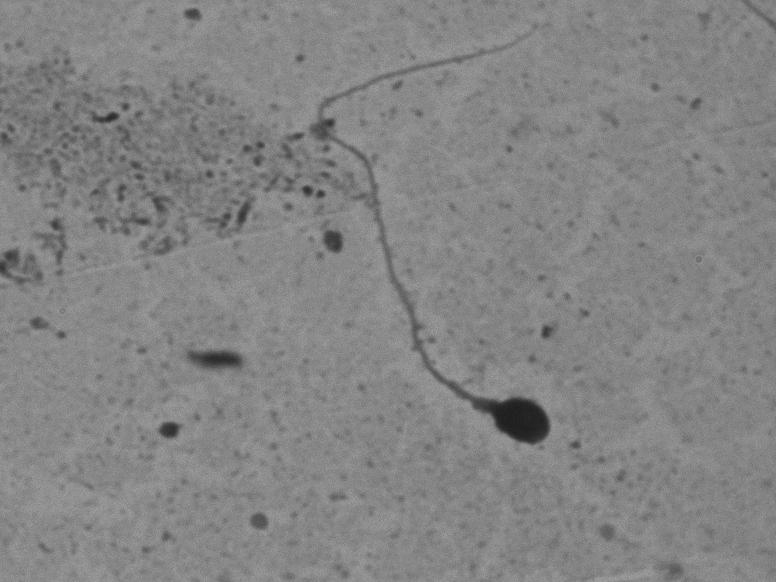Abnormal: (306, 20, 610, 472)
